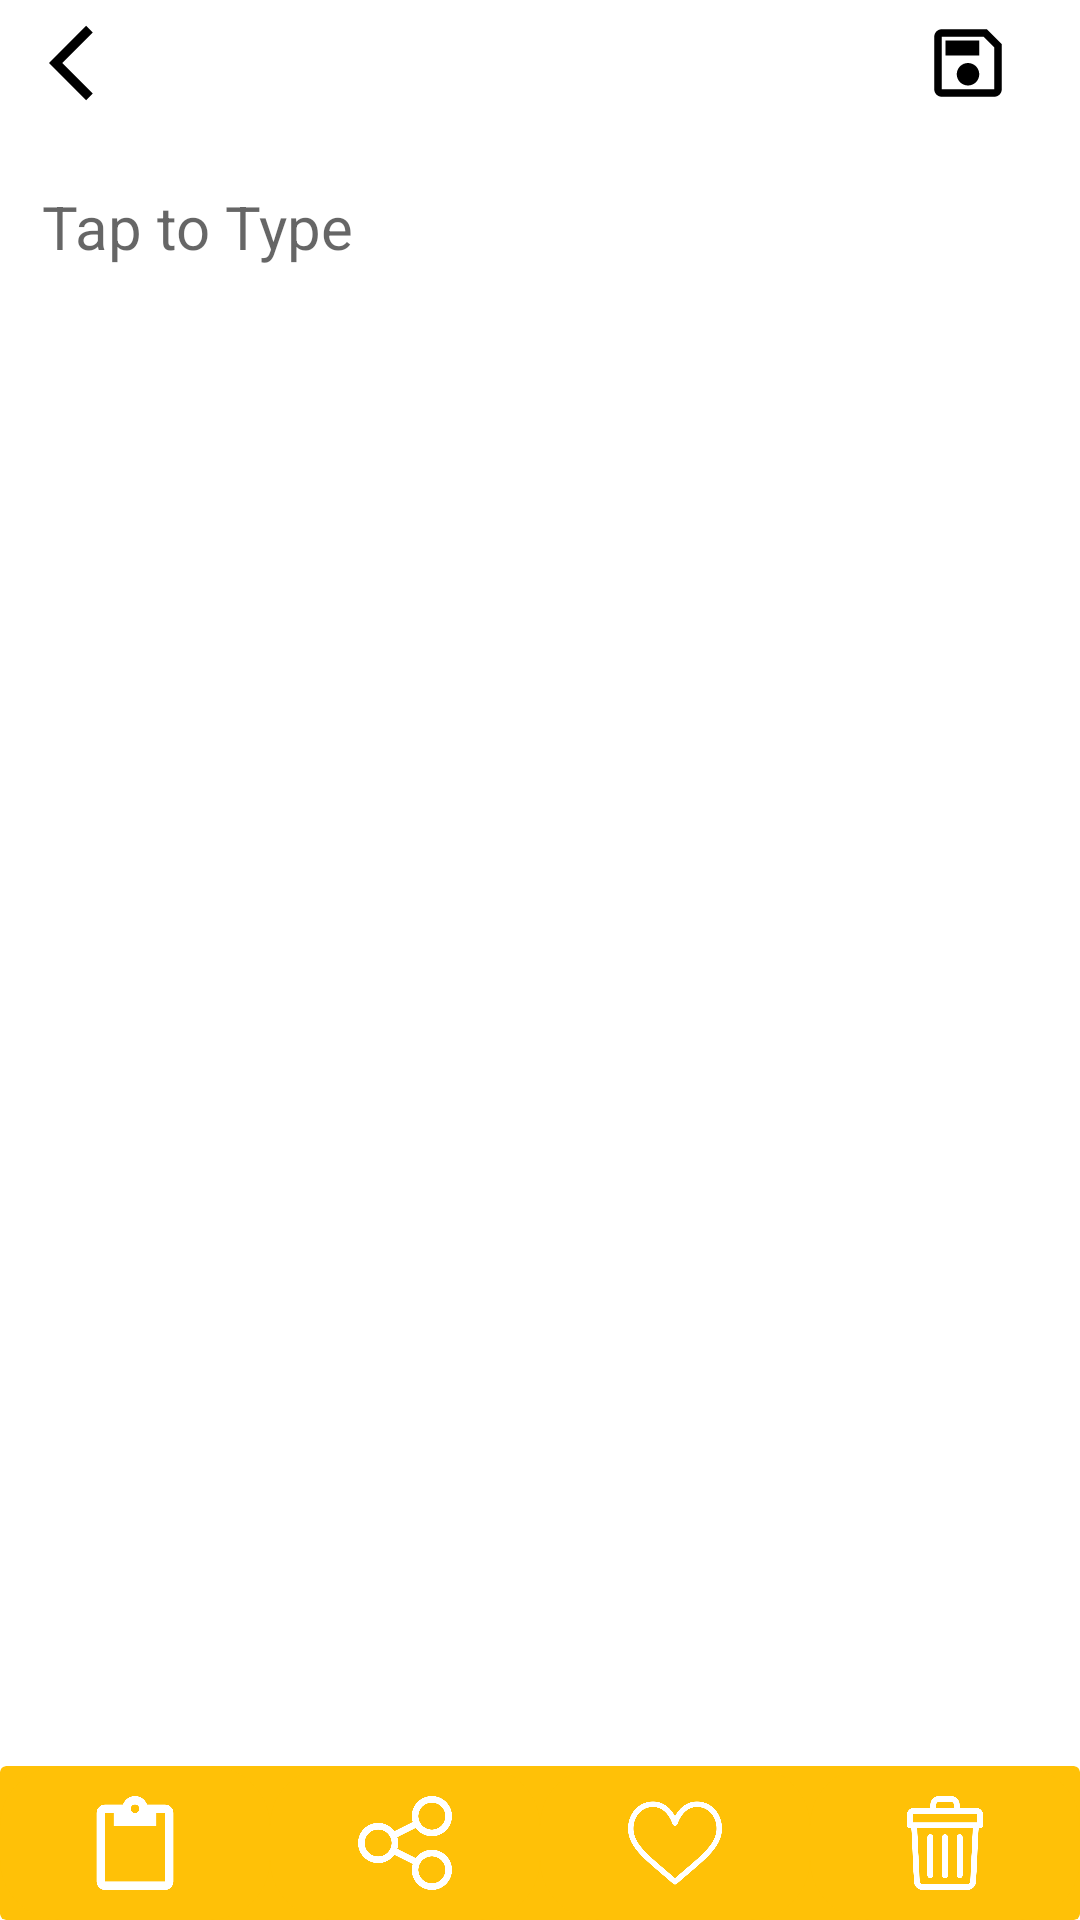

Where icons sit on this 1080px x 1920px app screen, as bbox(x1, y1, x2, y2):
arrow back: bbox(49, 26, 93, 100)
delete: bbox(907, 1796, 983, 1890)
like: bbox(628, 1801, 722, 1885)
paste: bbox(96, 1796, 174, 1890)
save: bbox(934, 29, 1002, 97)
share: bbox(358, 1796, 452, 1890)
